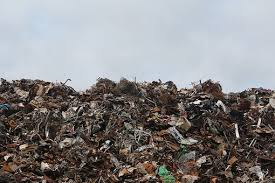garbage: (5, 81, 275, 181)
